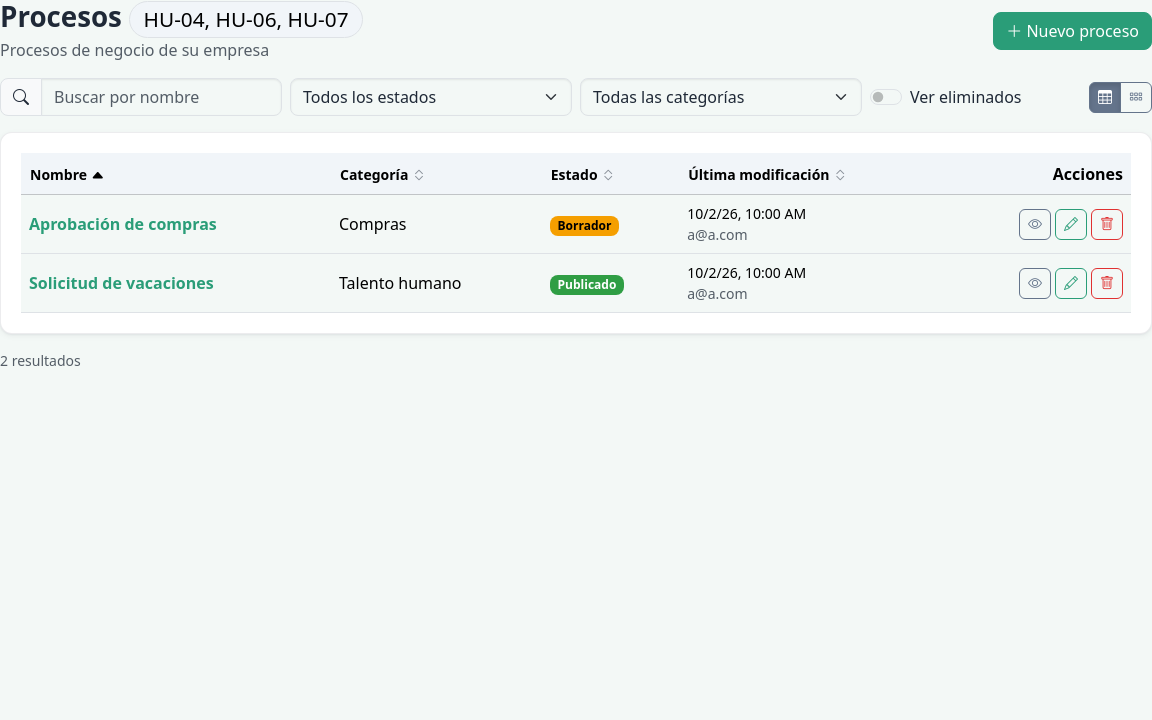
Test: ProcesosComponent (HU-06, HU-07) › la vista de tarjetas muestra los mismos procesos y se recuerda en el navegador
The width and height of the screenshot is (1152, 720).
Click the button named "Ver como tarjetas" at (1136, 97), box [1120,82,1151,113]
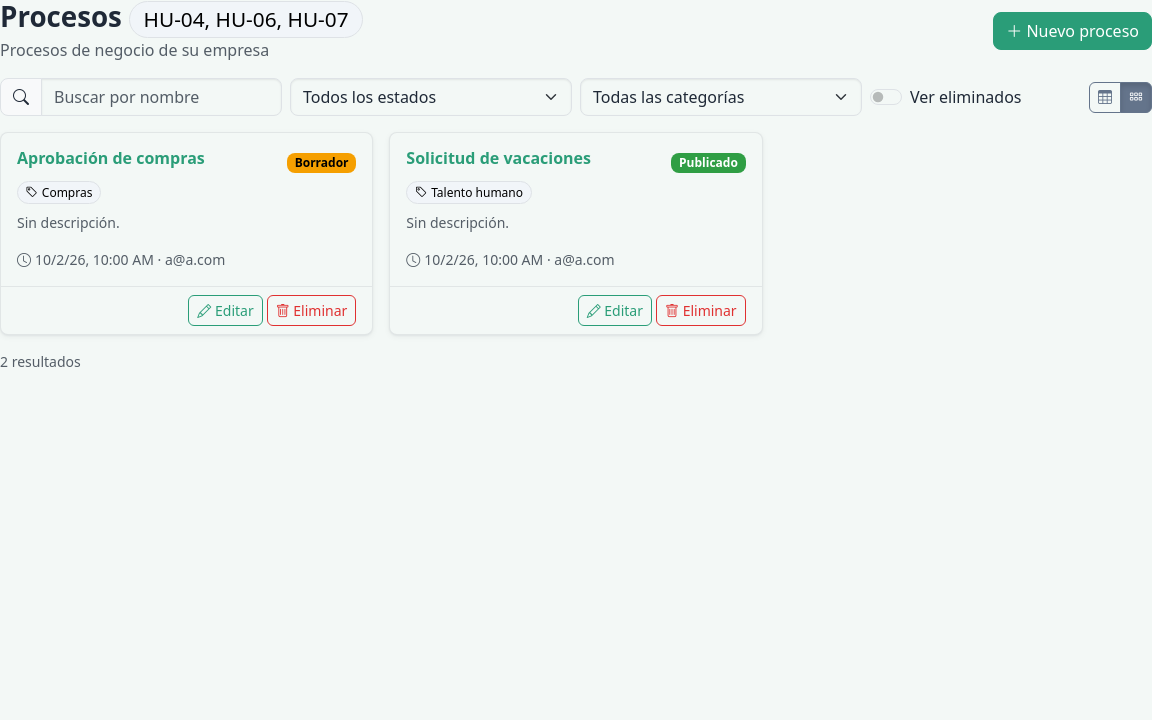
Expected: the table is gone
Click the button "Eliminar" below "Borrador" at (312, 311), box [267,295,356,326]
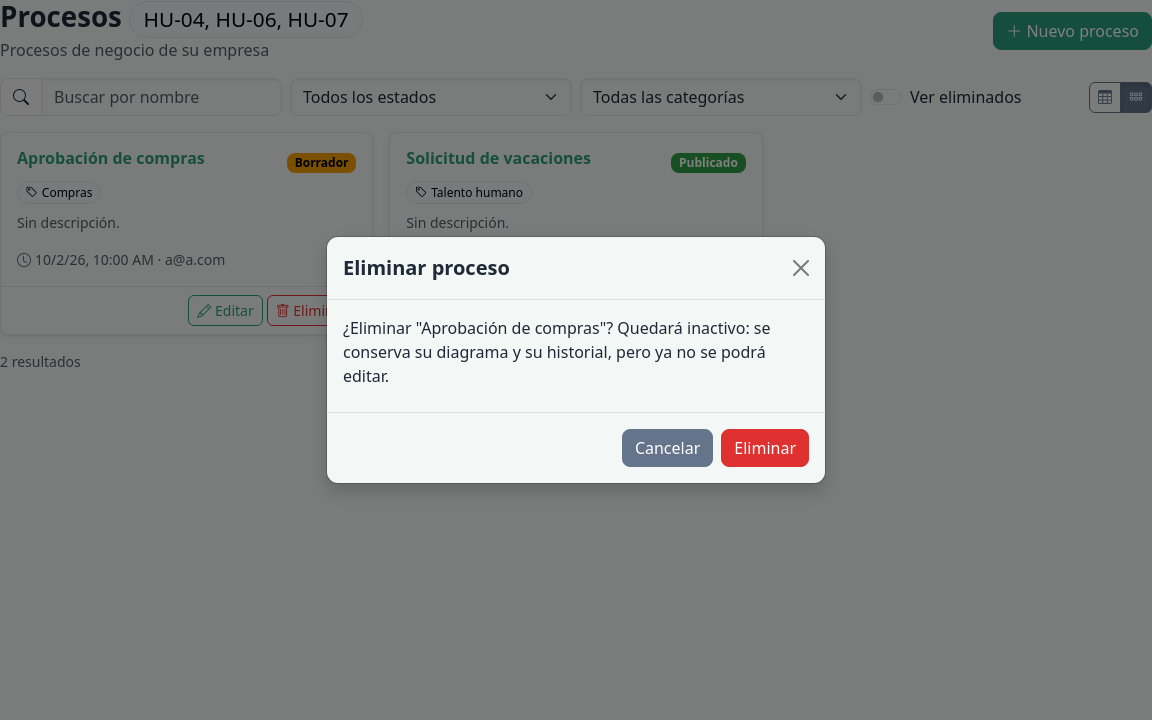
Expected: the dialog with class "modal" shows "Aprobación de compras", [343,317,770,387]
